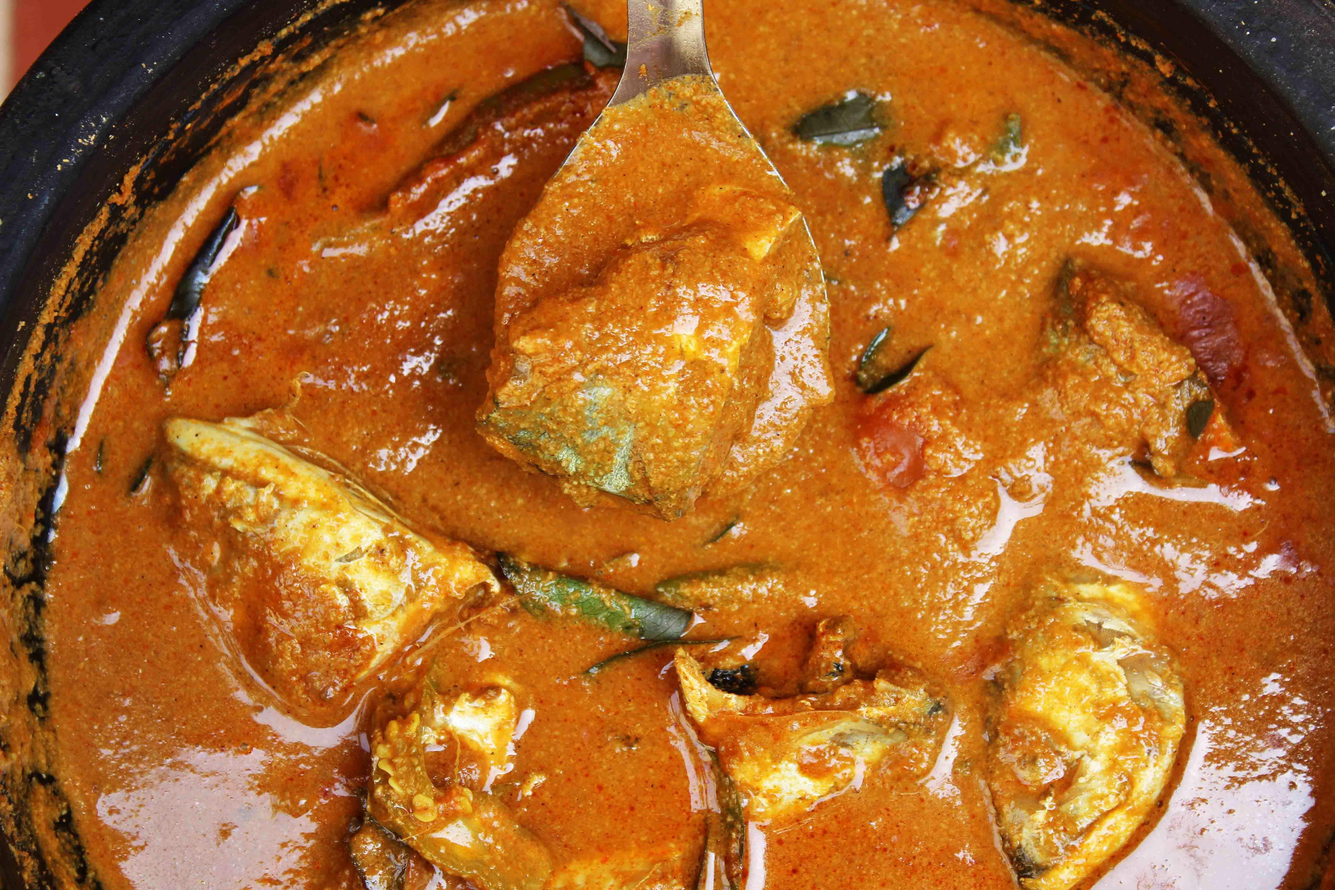FishCurry: (39, 0, 1335, 888)
